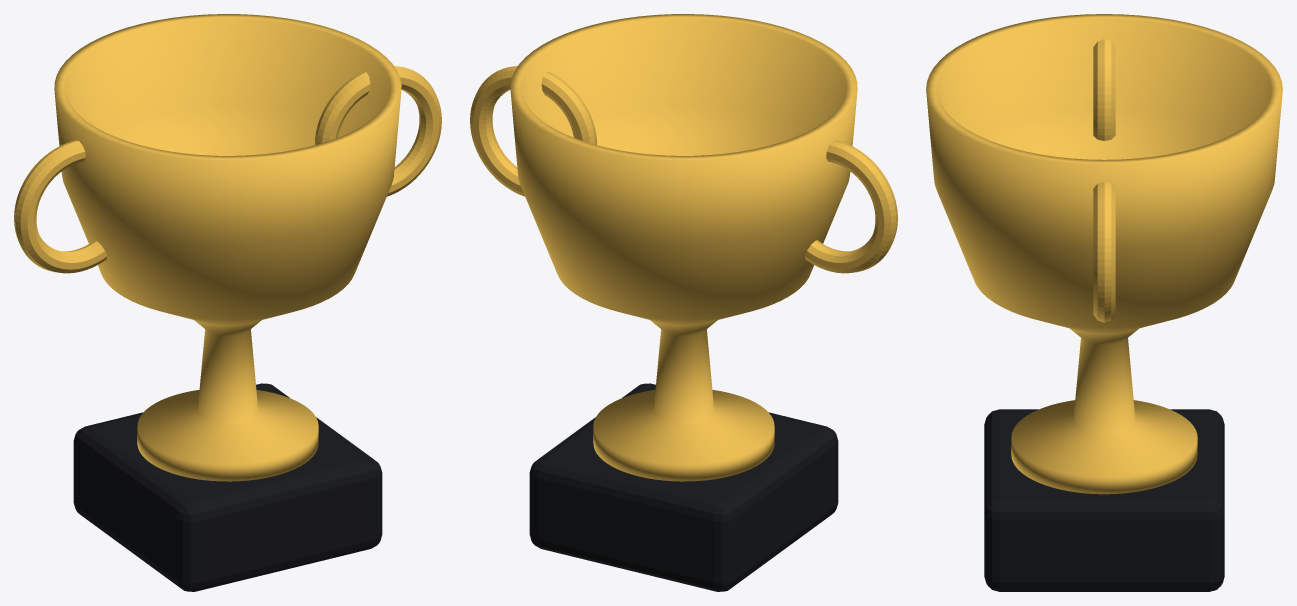
The model's file is trofeo.glb.
3 renders of one model, left to right at view 1: azimuth 30°, elevation 25°; view 2: azimuth 150°, elevation 25°; view 3: azimuth 270°, elevation 25°, orthographic. The views are drawn at different scales.
Parts seen in each view (by area): view 1: copa, Cube, Torus.029, Torus.028; view 2: copa, Cube, Torus.029, Torus.028; view 3: copa, Cube, Torus.029, Torus.028.
Part boxes in pixels (x1,y1,x2,y2): copa: (54,14,401,481); Cube: (73,383,382,591); Torus.029: (315,66,441,196); Torus.028: (14,140,106,273); copa: (510,14,857,481); Cube: (529,383,838,591); Torus.029: (470,66,596,196); Torus.028: (805,140,897,273); copa: (926,14,1282,494); Cube: (984,409,1224,591); Torus.029: (1093,182,1115,322); Torus.028: (1093,39,1115,140).
Size of the model in its own units: 1.3 by 1.3 by 0.92.
